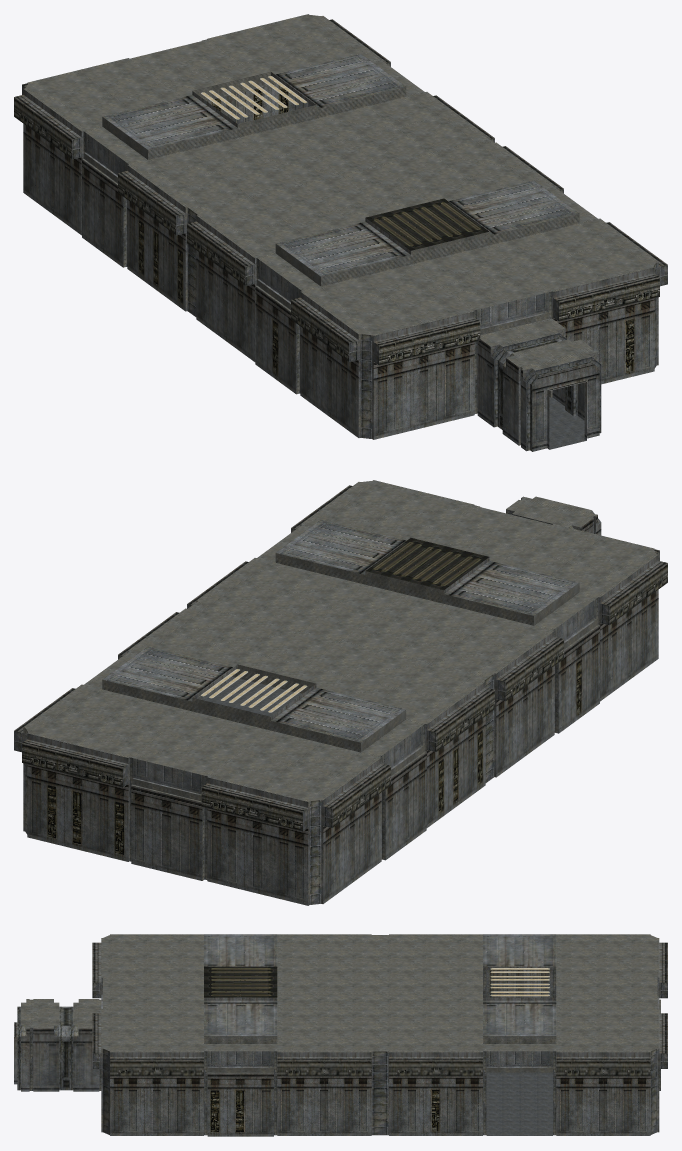
The model's file is poi_all_impl_bunker_abandoned_s01_r20_mess_mesh.fbx.
3 renders of one model, top to bottom at view 1: azimuth 30°, elevation 25°; view 2: azimuth 150°, elevation 25°; view 3: azimuth 270°, elevation 25°, orthographic. The views are drawn at different scales.
Parts seen in each view (by area): view 1: mesh_node; view 2: mesh_node; view 3: mesh_node.
Boxes of the visible parts, x1,y1,x2,y2 form: mesh_node: (14, 14, 667, 451); mesh_node: (14, 480, 667, 905); mesh_node: (14, 934, 667, 1136).
Size of the model in its own units: 17 by 6 by 37.5.
